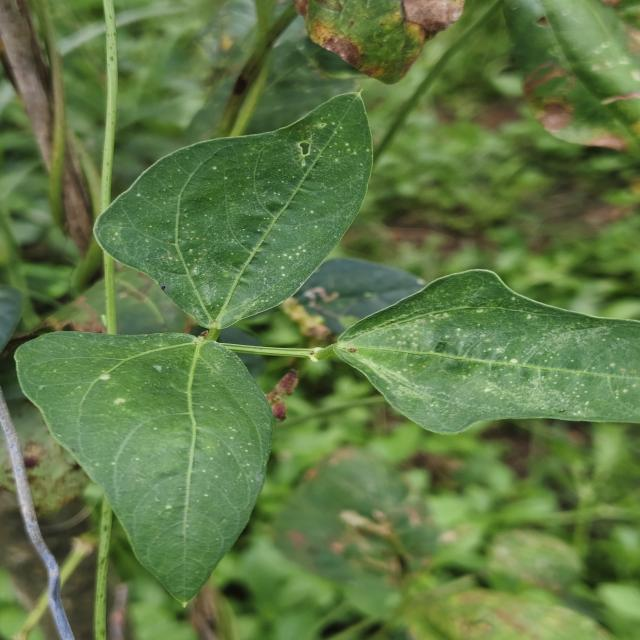sitaw-aphid-high: (15, 332, 275, 601), (95, 93, 372, 330), (336, 269, 640, 432), (281, 258, 425, 340)
sitaw-aphid-low: (502, 0, 640, 150)
